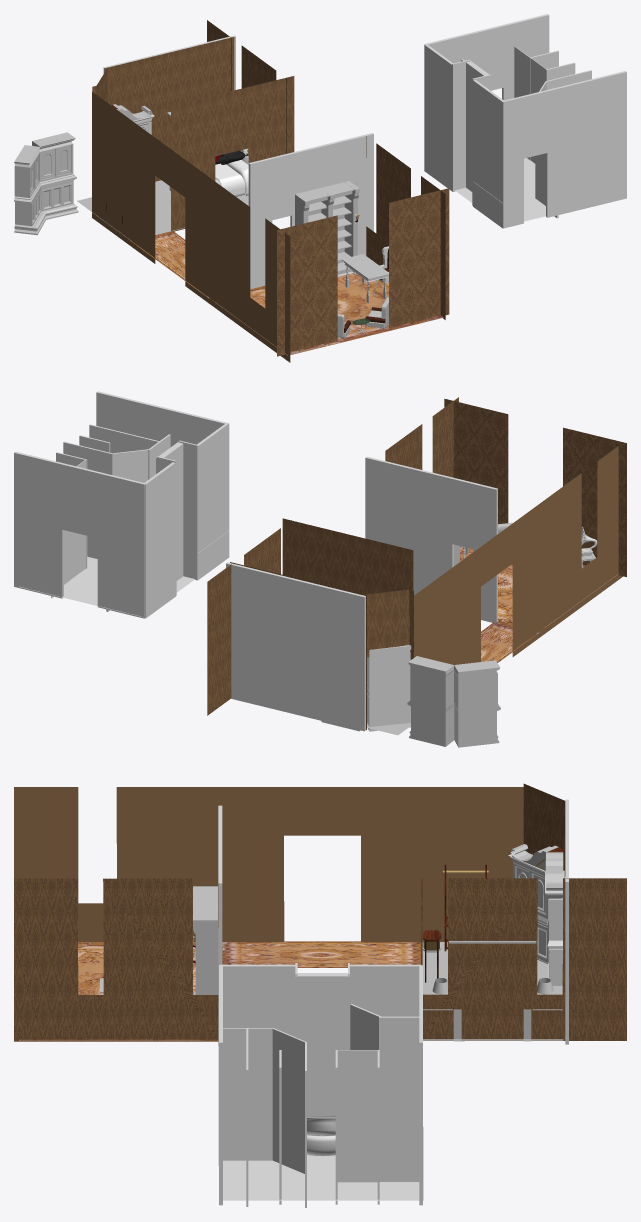
Rendered from clean_deadroom 1.fbx.
3 views of the same model, one above another, from view 1: azimuth 30°, elevation 25°; view 2: azimuth 150°, elevation 25°; view 3: azimuth 270°, elevation 25° (orthographic). The views are drawn at different scales.
Parts seen in each view (by area): view 1: Cube.715, Cube.005, Cube.934, Cube.734, Cube.699, Cube.716, Cube.927, Cube.732, Cube.935, Cube.932, Plane.105, Plane.108 (+12 smaller); view 2: Cube.715, Cube.680, Cube.732, Cube.699, Cube.934, Cube.716, Cube.734, Cube.717, Cube.005, Plane.108, Plane.111, Cube.006 (+11 smaller); view 3: Cube.715, Cube.935, Cube.717, Cube.716, Cube.731, Cube.723, Plane.104, Cube.728, Cube.726, Plane.000, Cube.733, Cube.932 (+13 smaller).
Boxes of the visible parts, left/top/right/bottom form: Cube.715: left=92, top=91, right=290, bottom=362; Cube.005: left=503, top=71, right=626, bottom=228; Cube.934: left=277, top=188, right=449, bottom=356; Cube.734: left=171, top=76, right=294, bottom=231; Cube.699: left=248, top=133, right=373, bottom=289; Cube.716: left=424, top=44, right=504, bottom=228; Cube.927: left=105, top=37, right=234, bottom=181; Cube.732: left=424, top=14, right=549, bottom=100; Cube.935: left=366, top=136, right=445, bottom=319; Cube.932: left=295, top=181, right=359, bottom=276; Plane.105: left=210, top=273, right=443, bottom=355; Plane.108: left=32, top=132, right=78, bottom=219; Cube.715: left=414, top=446, right=622, bottom=664; Cube.680: left=226, top=562, right=365, bottom=731; Cube.732: left=14, top=451, right=145, bottom=618; Cube.699: left=365, top=456, right=497, bottom=622; Cube.934: left=444, top=398, right=626, bottom=576; Cube.716: left=144, top=423, right=229, bottom=618; Cube.734: left=282, top=518, right=413, bottom=594; Cube.717: left=207, top=520, right=291, bottom=715; Cube.005: left=96, top=391, right=228, bottom=446; Plane.108: left=407, top=656, right=454, bottom=746; Plane.111: left=454, top=660, right=500, bottom=747; Cube.006: left=367, top=645, right=411, bottom=731; Cube.715: left=14, top=787, right=523, bottom=941; Cube.935: left=14, top=878, right=218, bottom=1041; Cube.717: left=421, top=878, right=626, bottom=1040; Cube.716: left=220, top=964, right=420, bottom=1049; Cube.731: left=218, top=1028, right=274, bottom=1165; Cube.723: left=295, top=973, right=349, bottom=1116; Plane.104: left=223, top=1126, right=423, bottom=1200; Cube.728: left=336, top=1050, right=377, bottom=1182; Cube.726: left=379, top=1050, right=419, bottom=1181; Plane.000: left=222, top=941, right=423, bottom=967; Cube.733: left=272, top=1028, right=305, bottom=1173; Cube.932: left=193, top=886, right=218, bottom=994.
Size of the model in its own units: 1150 by 293 by 956.
